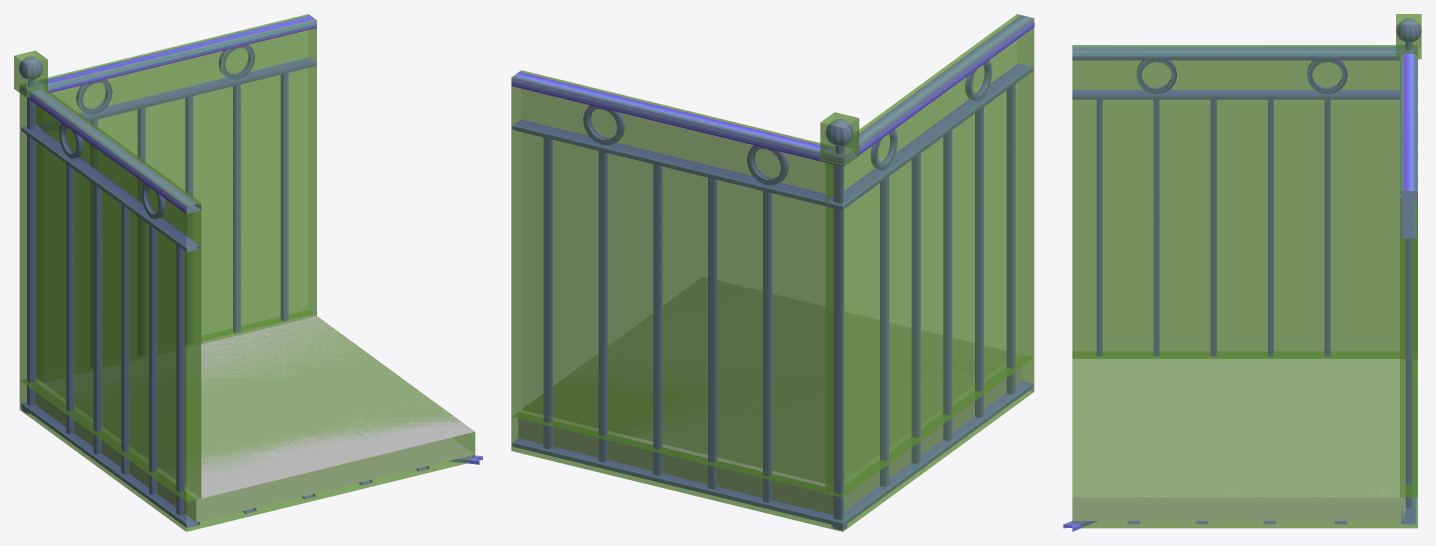
The model's file is F_md_Balcony_L_90cnr_01_m.fbx.
3 views of the same model, side by side, from view 1: azimuth 30°, elevation 25°; view 2: azimuth 150°, elevation 25°; view 3: azimuth 270°, elevation 25° (orthographic). The views are drawn at different scales.
Visible parts, largest first — view 1: F_md_Balcony_L_90cnr_01_m_LOD0, F_md_Balcony_L_90cnr_01_m_col_02, F_md_Balcony_L_90cnr_01_m_col_01, F_md_Balcony_L_90cnr_01_m_col_03, F_md_Balcony_L_90cnr_01_m_col_04; view 2: F_md_Balcony_L_90cnr_01_m_col_02, F_md_Balcony_L_90cnr_01_m_LOD0, F_md_Balcony_L_90cnr_01_m_col_01, F_md_Balcony_L_90cnr_01_m_col_03, F_md_Balcony_L_90cnr_01_m_col_04; view 3: F_md_Balcony_L_90cnr_01_m_col_01, F_md_Balcony_L_90cnr_01_m_LOD0, F_md_Balcony_L_90cnr_01_m_col_03, F_md_Balcony_L_90cnr_01_m_col_02, F_md_Balcony_L_90cnr_01_m_col_04.
Boxes of the visible parts, box(x1,y1,x2,y2) form: F_md_Balcony_L_90cnr_01_m_LOD0: box(19, 15, 482, 527); F_md_Balcony_L_90cnr_01_m_col_02: box(35, 14, 316, 381); F_md_Balcony_L_90cnr_01_m_col_01: box(19, 81, 201, 501); F_md_Balcony_L_90cnr_01_m_col_03: box(19, 310, 475, 531); F_md_Balcony_L_90cnr_01_m_col_04: box(14, 50, 47, 97); F_md_Balcony_L_90cnr_01_m_col_02: box(511, 70, 834, 493); F_md_Balcony_L_90cnr_01_m_LOD0: box(511, 15, 1034, 530); F_md_Balcony_L_90cnr_01_m_col_01: box(825, 14, 1034, 497); F_md_Balcony_L_90cnr_01_m_col_03: box(511, 355, 1034, 531); F_md_Balcony_L_90cnr_01_m_col_04: box(820, 112, 859, 166); F_md_Balcony_L_90cnr_01_m_col_01: box(1072, 45, 1417, 358); F_md_Balcony_L_90cnr_01_m_LOD0: box(1063, 18, 1421, 531); F_md_Balcony_L_90cnr_01_m_col_03: box(1072, 352, 1417, 528); F_md_Balcony_L_90cnr_01_m_col_02: box(1400, 53, 1417, 497); F_md_Balcony_L_90cnr_01_m_col_04: box(1396, 14, 1421, 59).
Size of what is drawn, in the model's own units: 104 by 117 by 104.
